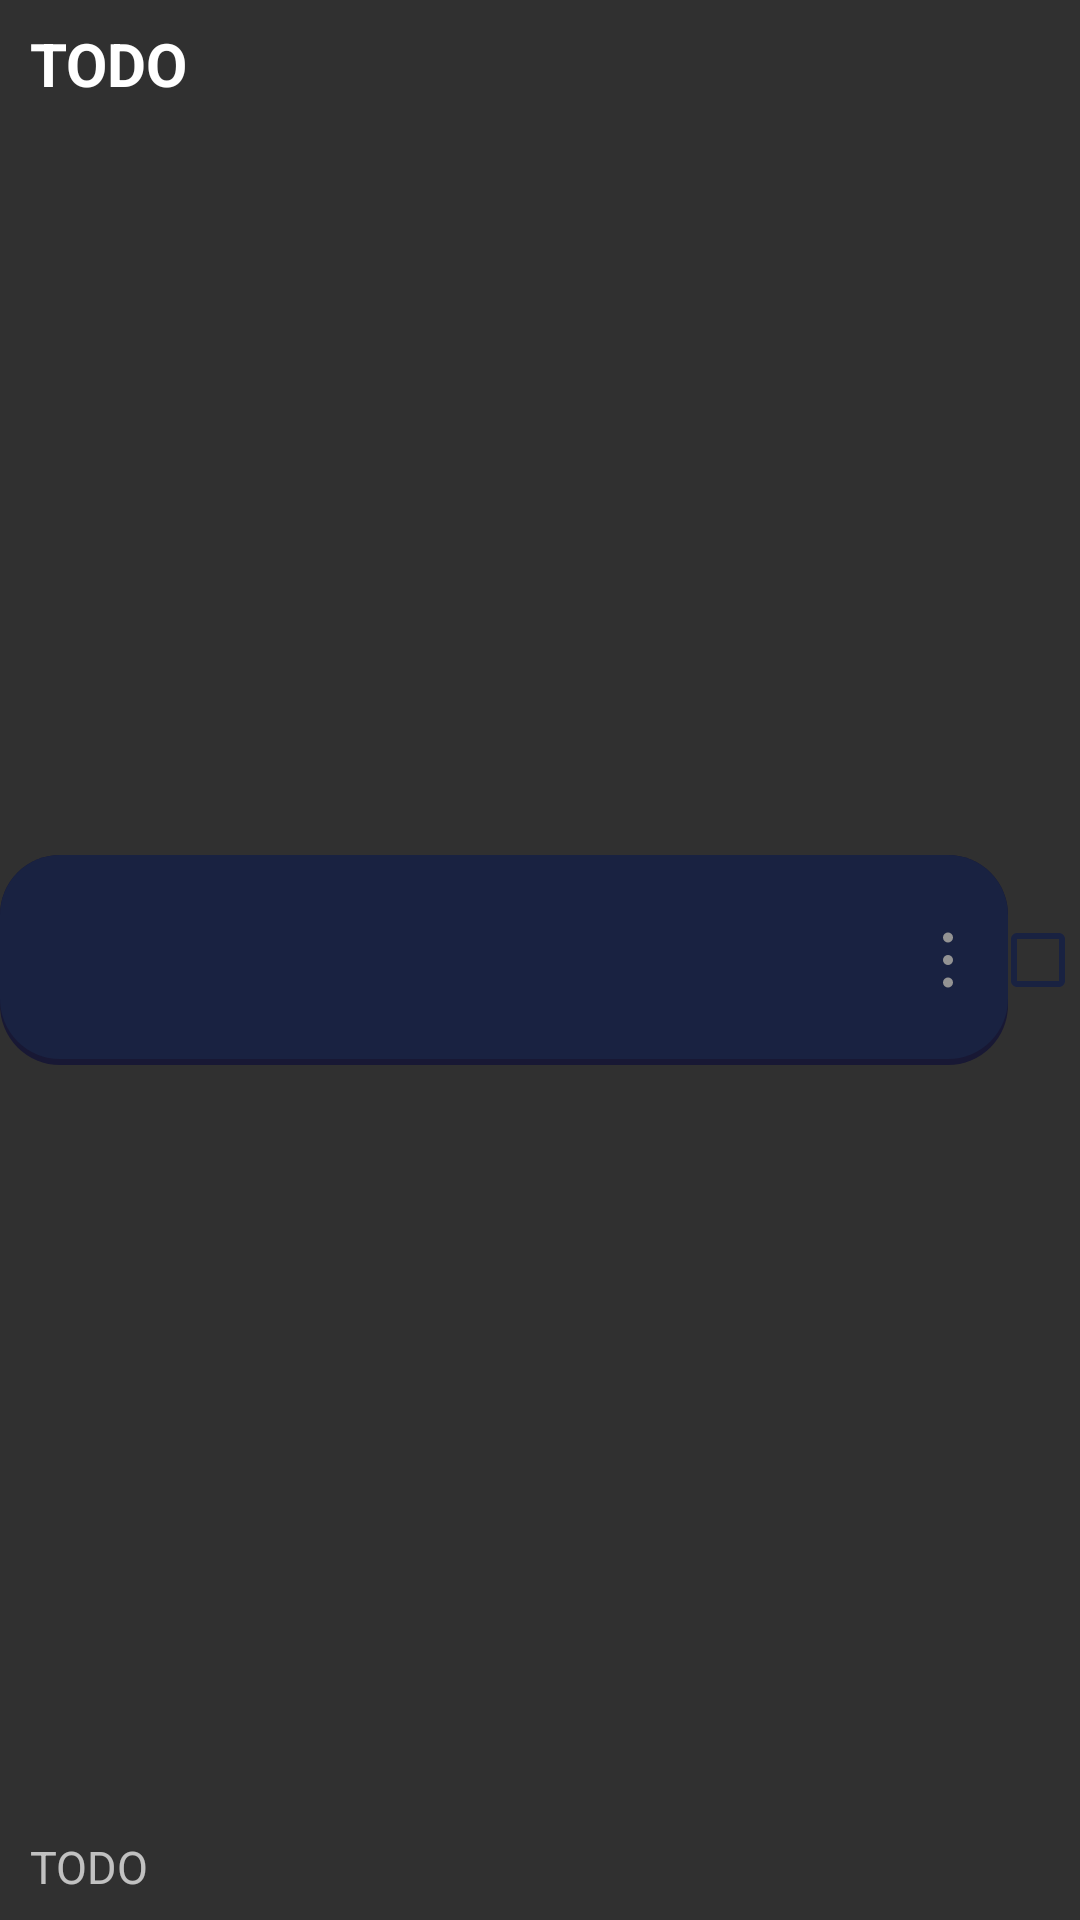

Screen size 1080 x 1920. Icon name, then its box in pixels as (x1, y1, x2, y2):
options: (943, 932, 953, 988)
